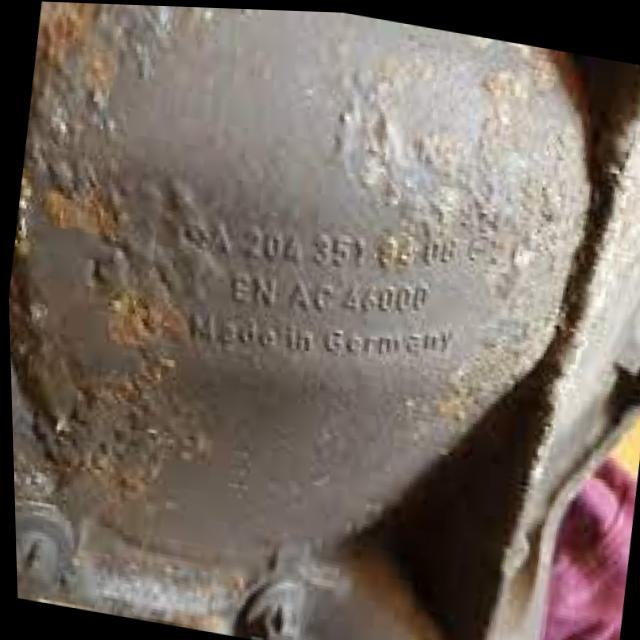ocr: (185, 301, 459, 362), (179, 213, 465, 266), (223, 263, 436, 314)
